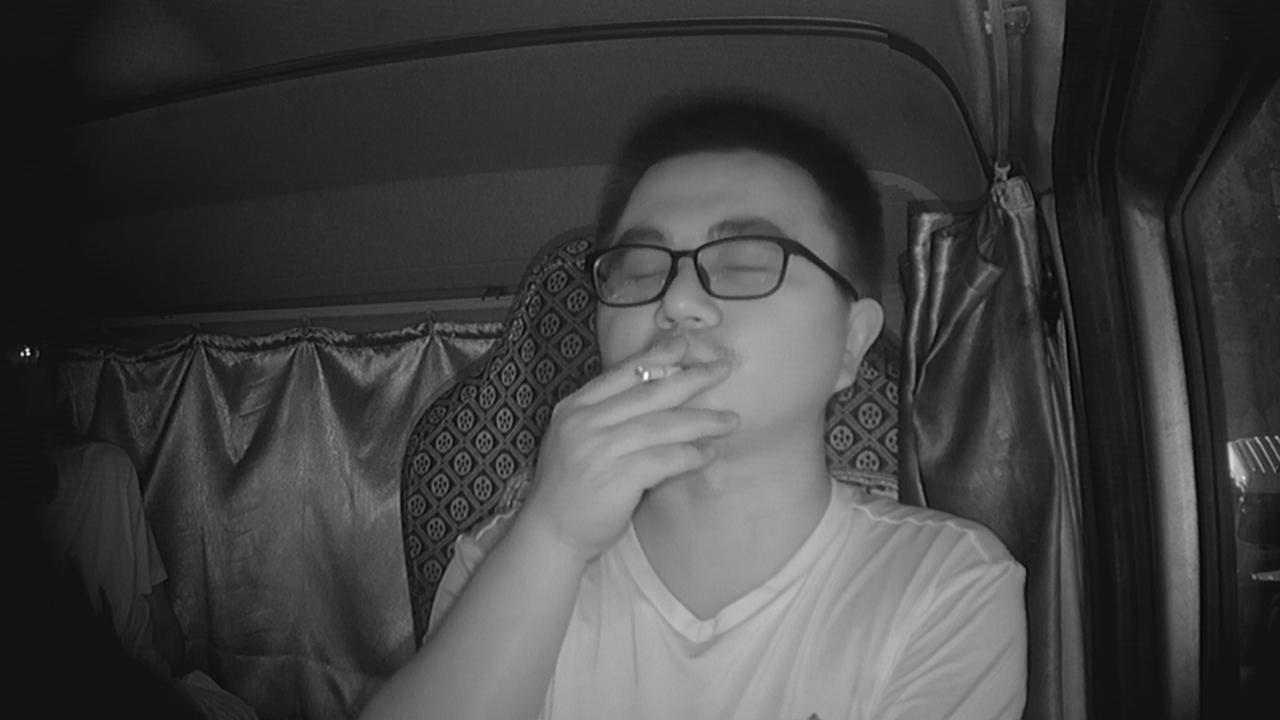hand: (598, 338, 739, 510)
